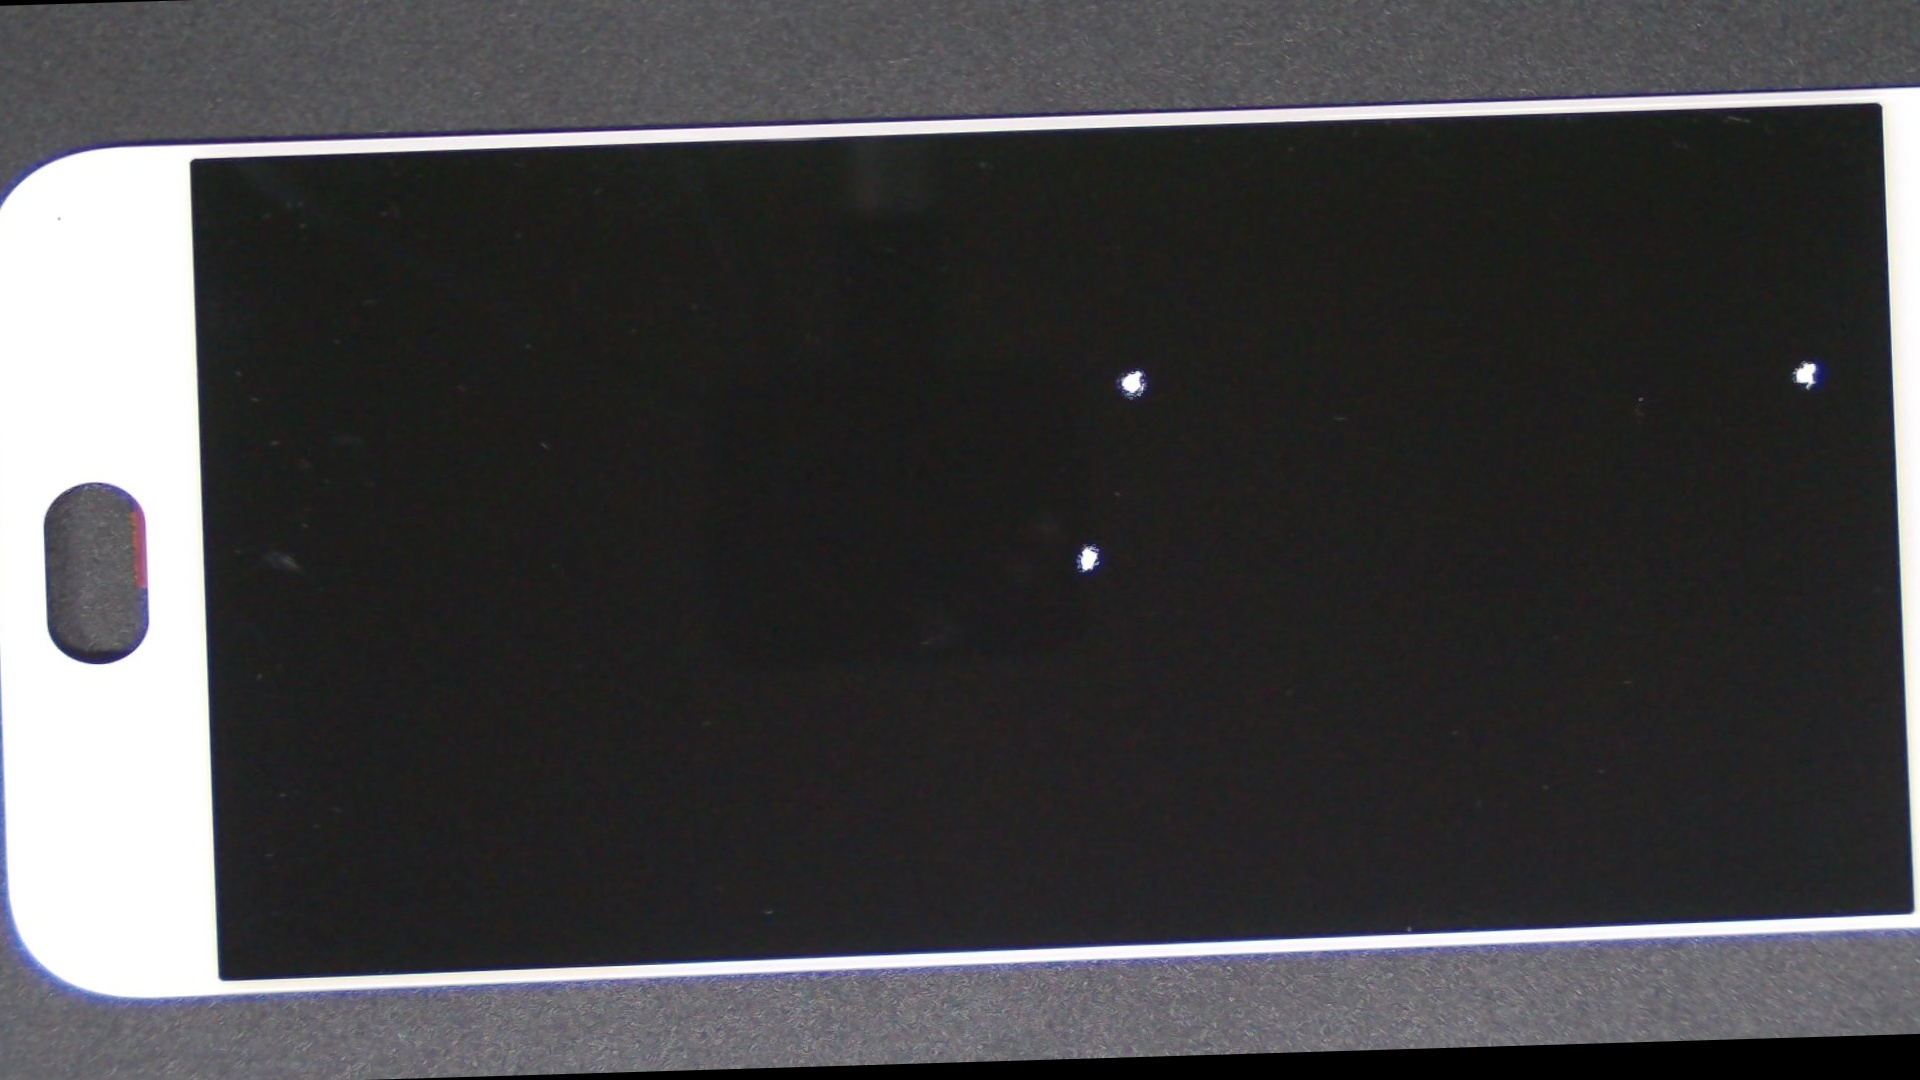oil: (479, 241, 1684, 847), (506, 150, 1764, 583), (840, 145, 1920, 592)
